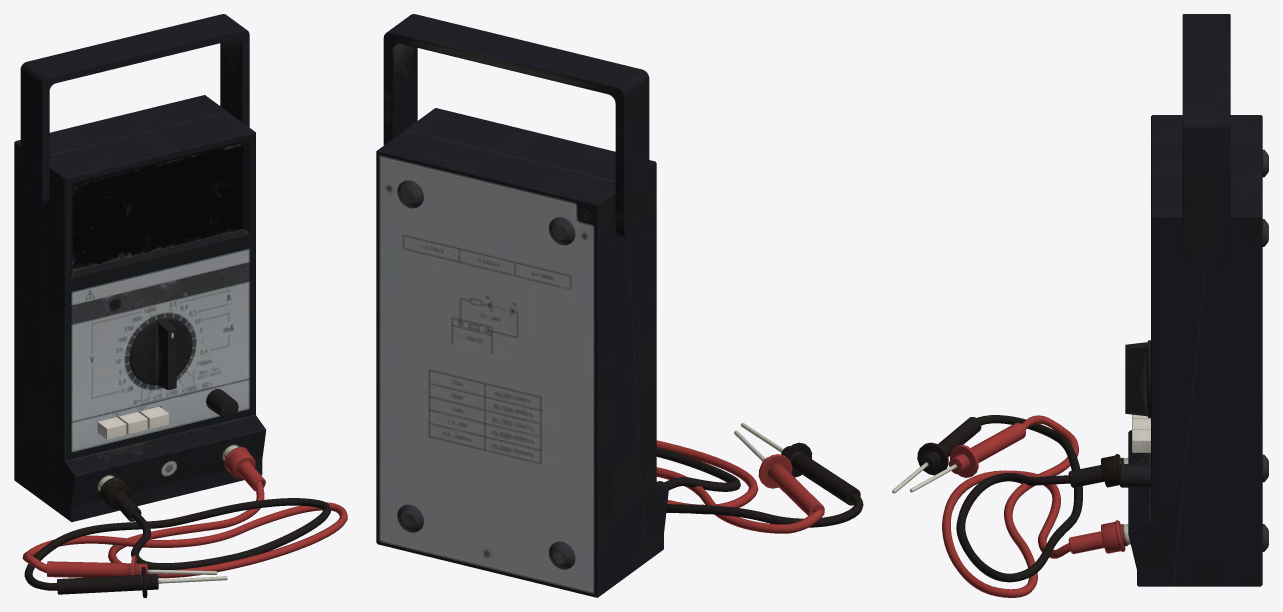
File: retro_multimeter.glb
The picture shows the model from 3 angles, left to right: view 1: azimuth 30°, elevation 25°; view 2: azimuth 150°, elevation 25°; view 3: azimuth 270°, elevation 25°; orthographic projection. The views are drawn at different scales.
Visible parts, largest first — view 1: retro_multimeter_LOD0, retro_multimeter_cables_LOD0, retro_multimeter_handle_LOD0, retro_multimeter_dial_LOD0, retro_multimeter_buttons_LOD0, retro_multimeter_knob_LOD0; view 2: retro_multimeter_LOD0, retro_multimeter_handle_LOD0, retro_multimeter_cables_LOD0; view 3: retro_multimeter_LOD0, retro_multimeter_cables_LOD0, retro_multimeter_handle_LOD0, retro_multimeter_dial_LOD0, retro_multimeter_knob_LOD0, retro_multimeter_buttons_LOD0.
Boxes of the visible parts, x1,y1,x2,y2 form: retro_multimeter_LOD0: (14, 95, 266, 522); retro_multimeter_cables_LOD0: (22, 445, 347, 597); retro_multimeter_handle_LOD0: (20, 14, 249, 207); retro_multimeter_dial_LOD0: (129, 318, 192, 390); retro_multimeter_buttons_LOD0: (97, 406, 168, 439); retro_multimeter_knob_LOD0: (206, 389, 238, 418); retro_multimeter_LOD0: (376, 108, 668, 597); retro_multimeter_handle_LOD0: (383, 14, 649, 238); retro_multimeter_cables_LOD0: (656, 422, 863, 533); retro_multimeter_LOD0: (1128, 115, 1268, 586); retro_multimeter_cables_LOD0: (892, 415, 1130, 597); retro_multimeter_handle_LOD0: (1182, 14, 1230, 266); retro_multimeter_dial_LOD0: (1125, 340, 1150, 418); retro_multimeter_knob_LOD0: (1120, 463, 1150, 487); retro_multimeter_buttons_LOD0: (1132, 414, 1150, 452).
Size of the model in its own units: 0.216 by 0.2786 by 0.2026.
Materials: 2 (2 with a texture image).
